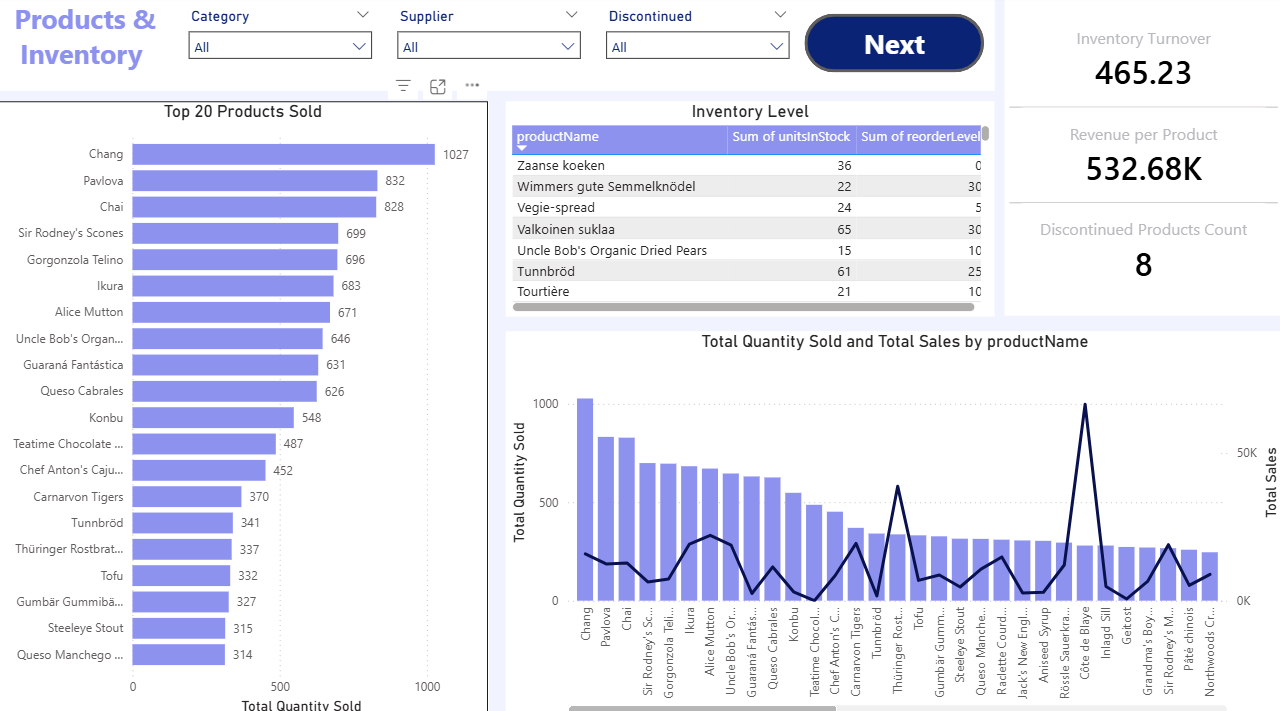

This screenshot's page, from the dashboard's own definition file:
{"tool":"powerbi","page":{"name":"Page 3","canvas":[1280,720],"ordinal":2},"visuals":[{"type":"shape","box":[0,0,992.5,95.1],"z":0},{"type":"slicer","fields":{"Values":["Dim Categories.categoryName"]},"box":[180,7.6,202.8,82.4],"z":1000},{"type":"textbox","box":[0,0,174.9,95.1],"z":2000},{"type":"slicer","fields":{"Values":["Dim Suppliers.companyName"]},"box":[387.9,7.6,202.8,82.4],"z":3000},{"type":"slicer","fields":{"Values":["Dim Products.discontinued"]},"box":[595.8,7.6,202.8,82.4],"z":4000},{"type":"actionButton","title":"vvf","box":[803.6,19,178.7,58.3],"z":5000},{"type":"cardVisual","fields":{"Data":["Dax Product.Inventory Turnover","Dax Product.Revenue per Product","Dax Product.Discontinued Products Count"]},"box":[1002.7,0,277.6,319.4],"z":6000},{"type":"clusteredBarChart","title":"Top 20 Products Sold","fields":{"Category":["Dim Products.productName"],"Y":["Dax Sales.Total Quantity Sold"]},"box":[0,105.2,489.3,614.8],"z":7000},{"type":"tableEx","title":"Inventory Level","fields":{"Values":["Dim Products.productName","Sum(Dim Products.unitsInStock)","Sum(Dim Products.reorderLevel)"]},"box":[505.8,105.2,486.8,214.2],"z":8000},{"type":"lineStackedColumnComboChart","fields":{"Category":["Dim Products.productName"],"Y":["Dax Sales.Total Quantity Sold"],"Y2":["Dax Sales.Total Sales"]},"box":[505.8,334.6,774.5,385.3],"z":9000}]}

Visuals, with their boxes in screenshot pixels (x1, y1, x2, y2), scaled from the page's 1280x720 canvas onto the 1280x711 screenshot:
shape: <bbox>0, 0, 992, 94</bbox>
slicer - Dim Categories.categoryName: <bbox>180, 8, 383, 89</bbox>
textbox: <bbox>0, 0, 175, 94</bbox>
slicer - Dim Suppliers.companyName: <bbox>388, 8, 591, 89</bbox>
slicer - Dim Products.discontinued: <bbox>596, 8, 799, 89</bbox>
"vvf" actionButton: <bbox>804, 19, 982, 76</bbox>
cardVisual - Dax Product.Inventory Turnover x Dax Product.Revenue per Product: <bbox>1003, 0, 1279, 315</bbox>
"Top 20 Products Sold" clusteredBarChart: <bbox>0, 104, 489, 710</bbox>
"Inventory Level" tableEx: <bbox>506, 104, 993, 315</bbox>
lineStackedColumnComboChart - Dim Products.productName x Dax Sales.Total Quantity Sold: <bbox>506, 330, 1279, 710</bbox>
